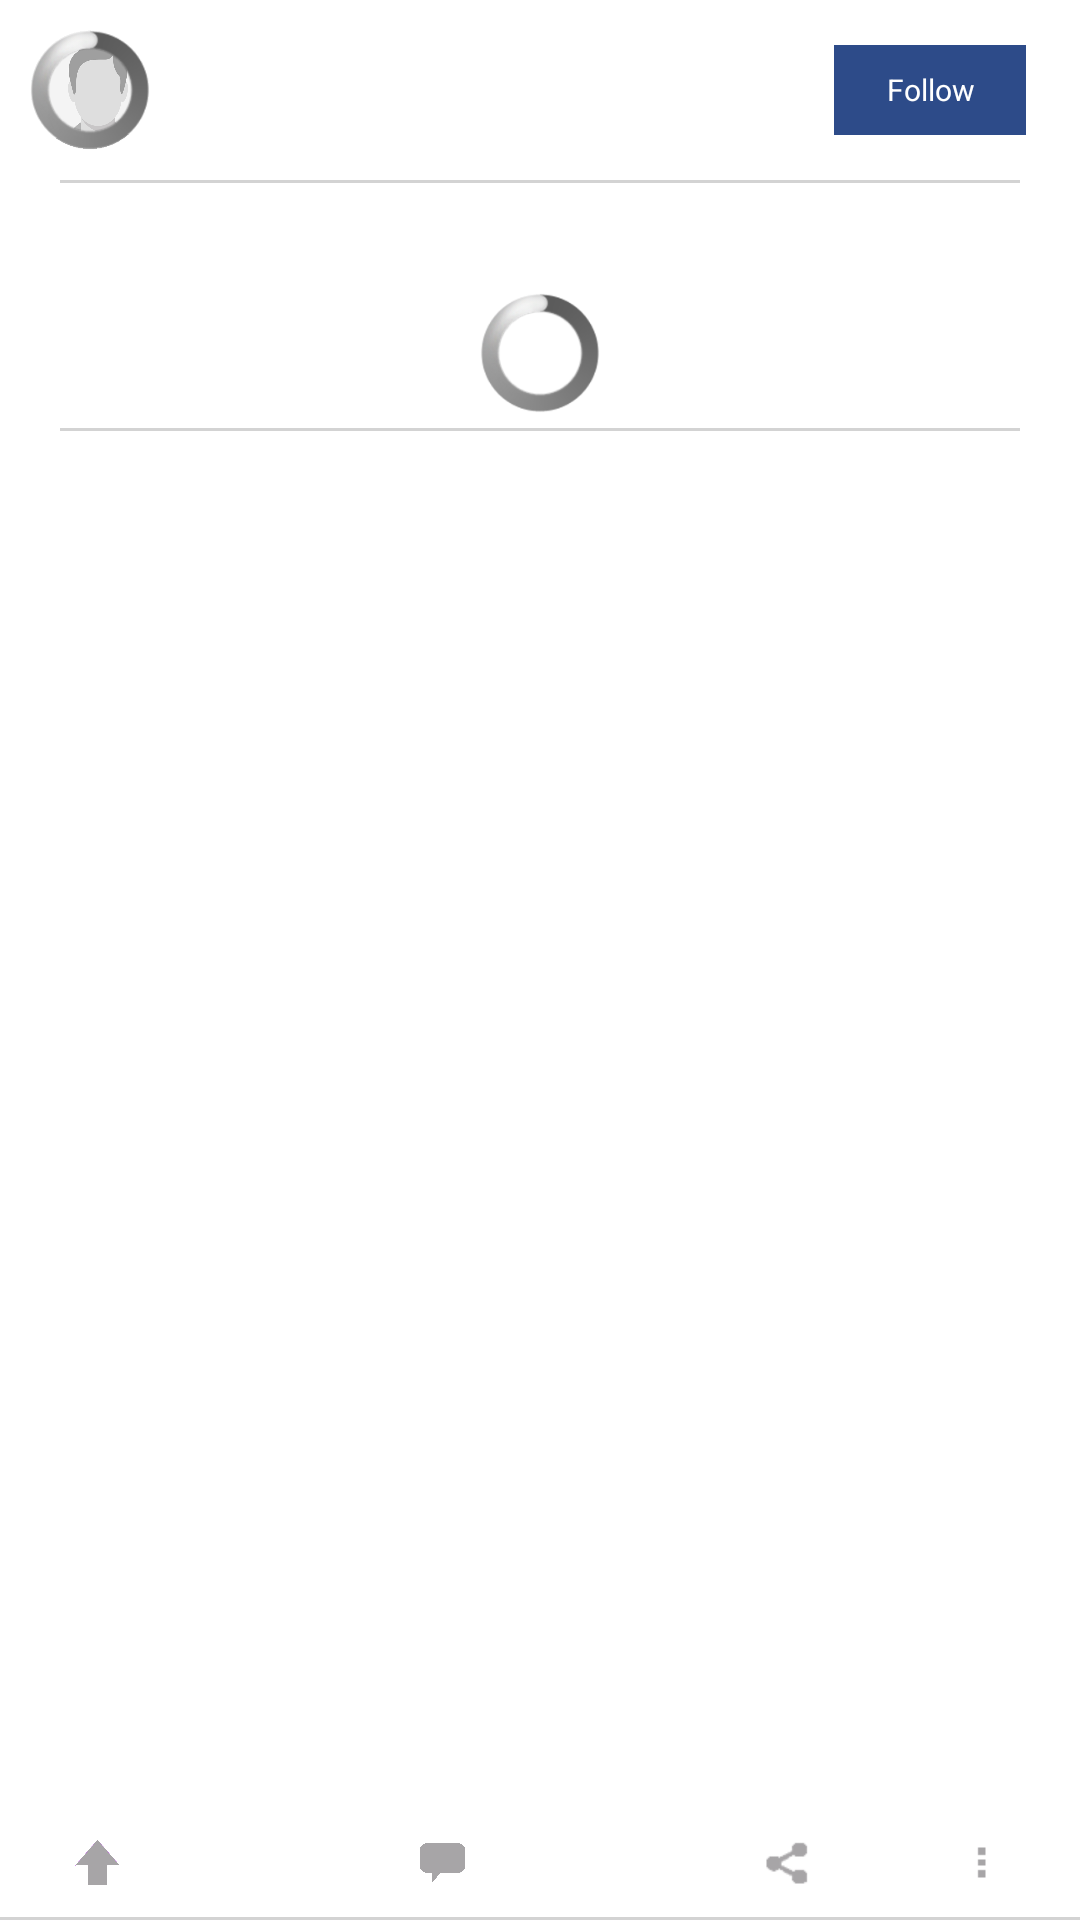

Icon bounding boxes for this 1080px×1920px phone screenshot, format (x1, y1, x2, y2):
circle crop: (31, 31, 149, 149)
dot menu: (978, 1847, 986, 1878)
share: (766, 1843, 807, 1884)
up arrow: (75, 1840, 119, 1885)
